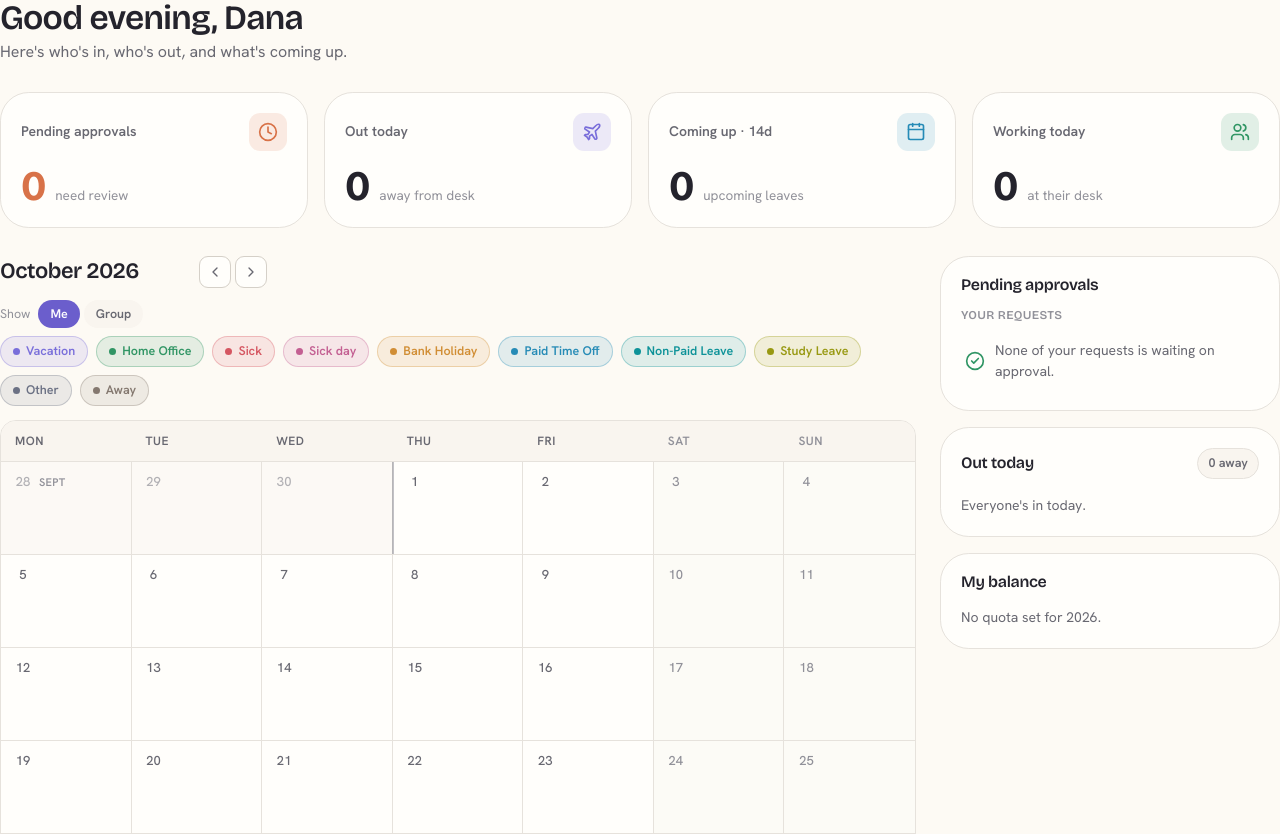
Test: DashboardPage group event entries › offers no create entry while no group can create
Click the button "14": (327, 694) [262,648,393,740]
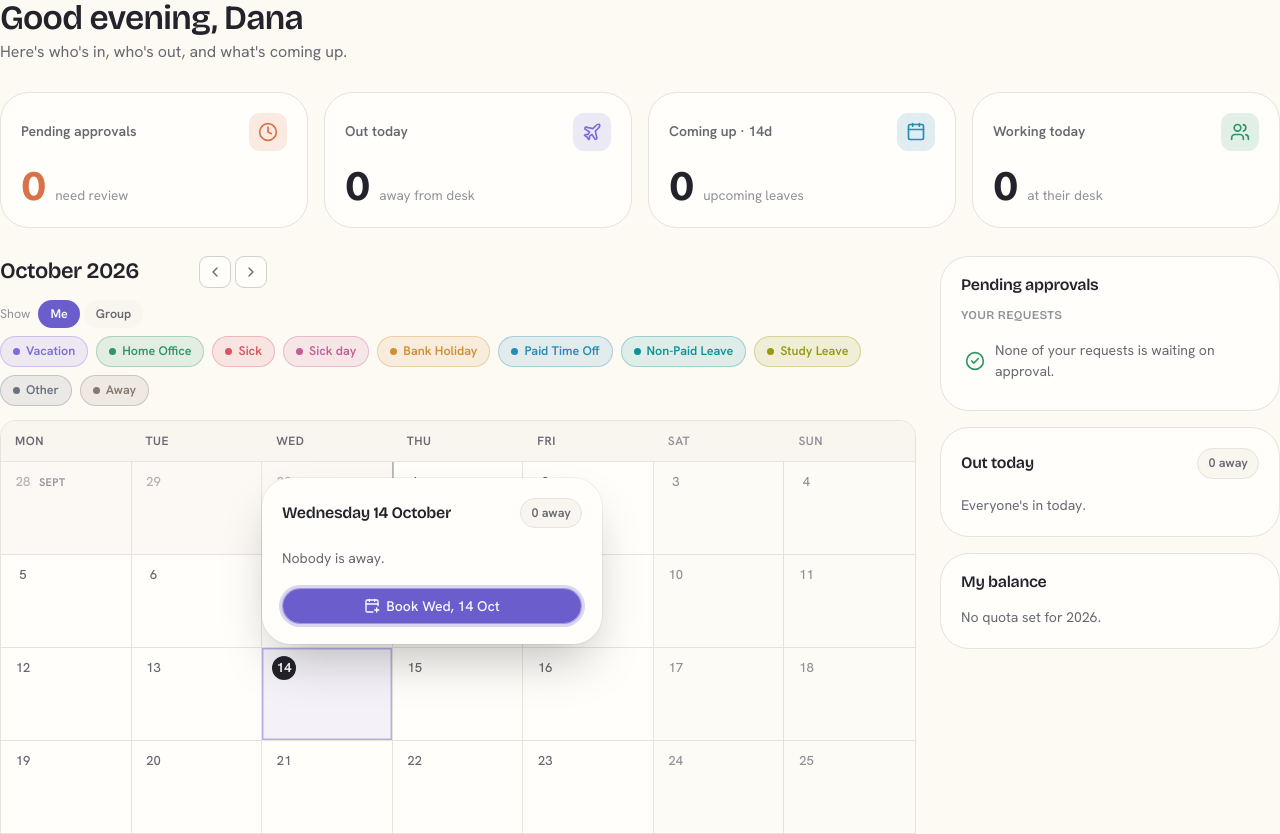
Press Escape
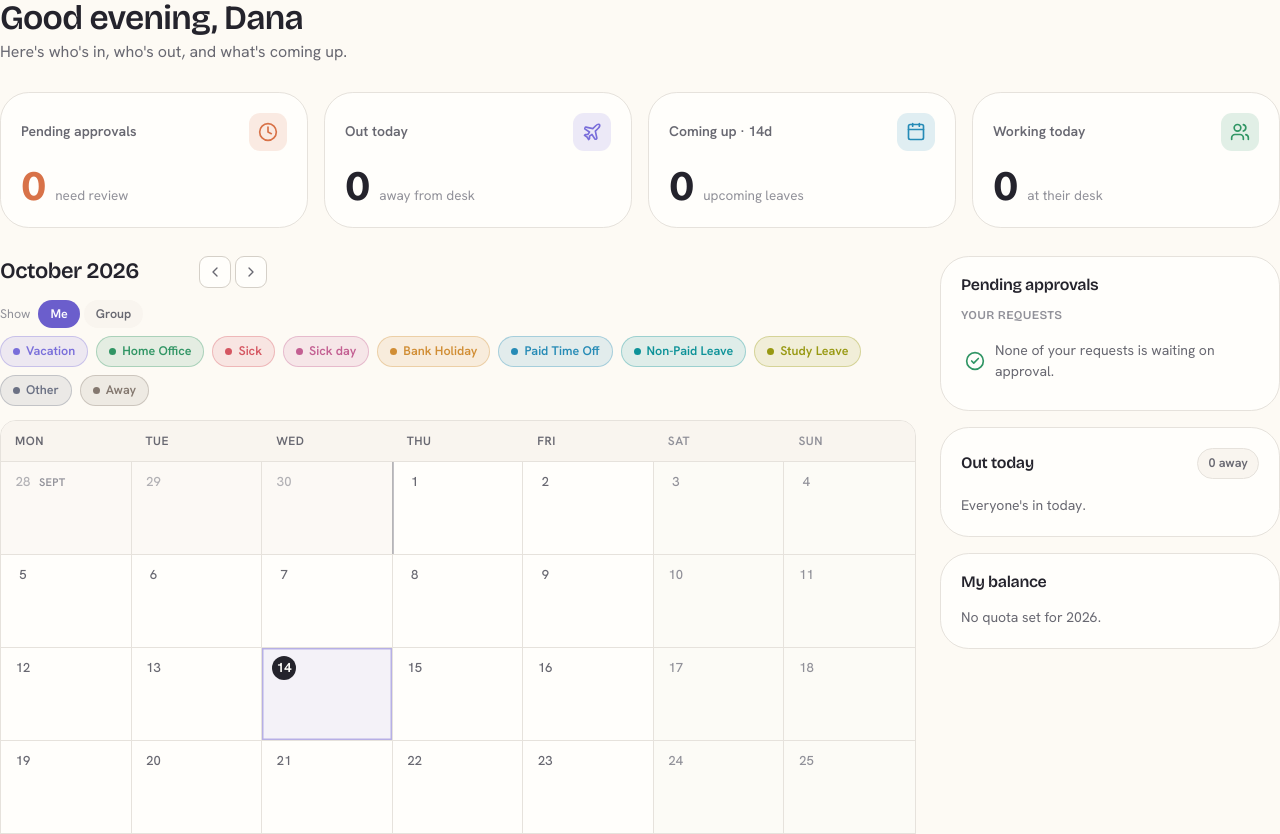
Right-click the button "14": (327, 694) [262,648,393,740]
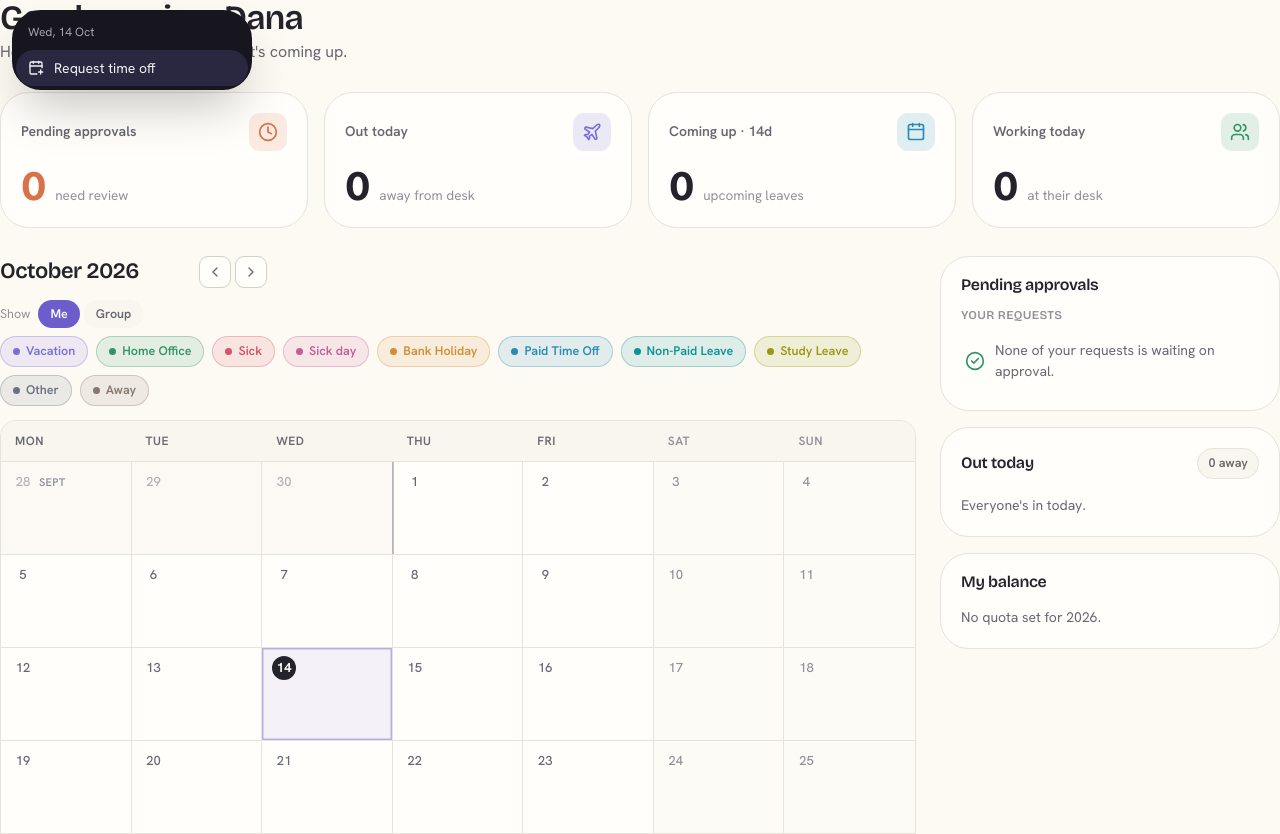
Expected: the menu item "Request time off" is shown, [16,50,248,86]
